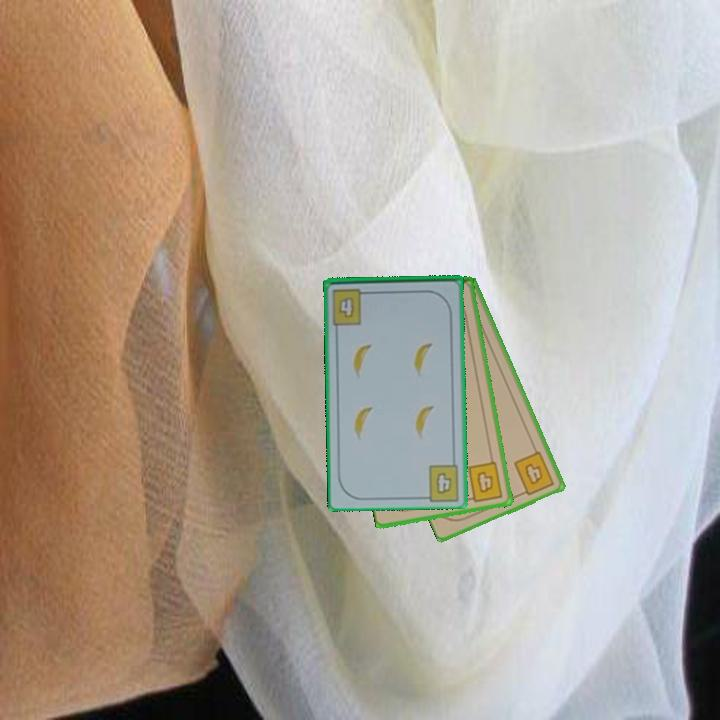4b: (510, 448, 557, 499), (463, 458, 506, 505), (328, 285, 373, 327), (433, 469, 455, 497)
